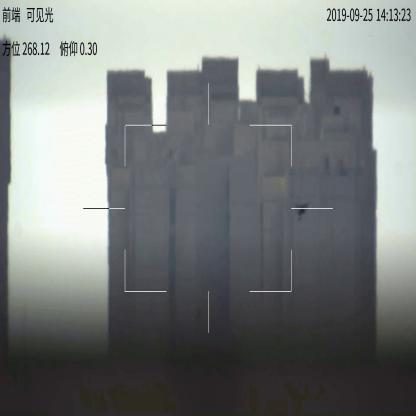uav: (294, 200, 312, 221)
